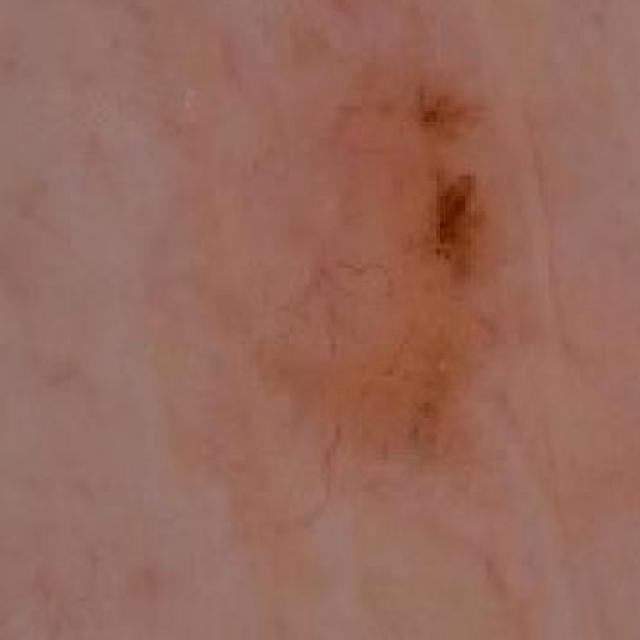BCC: (211, 56, 572, 510)
